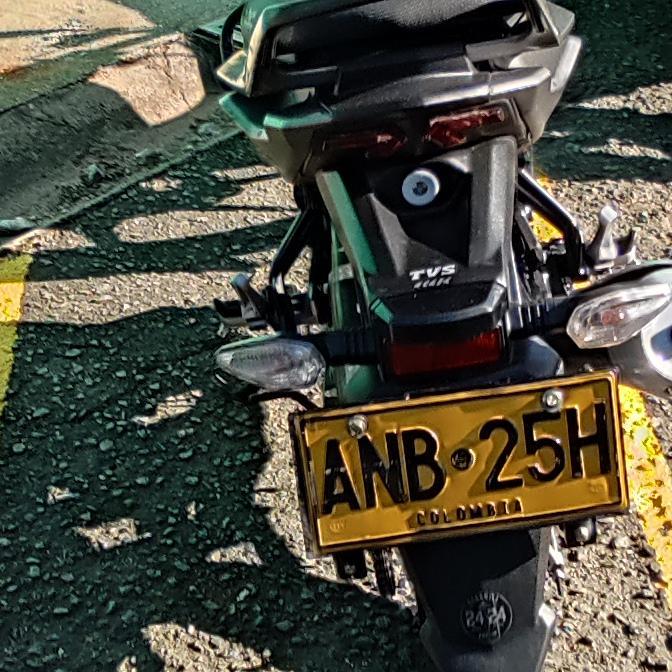plates: (285, 374, 627, 562)
